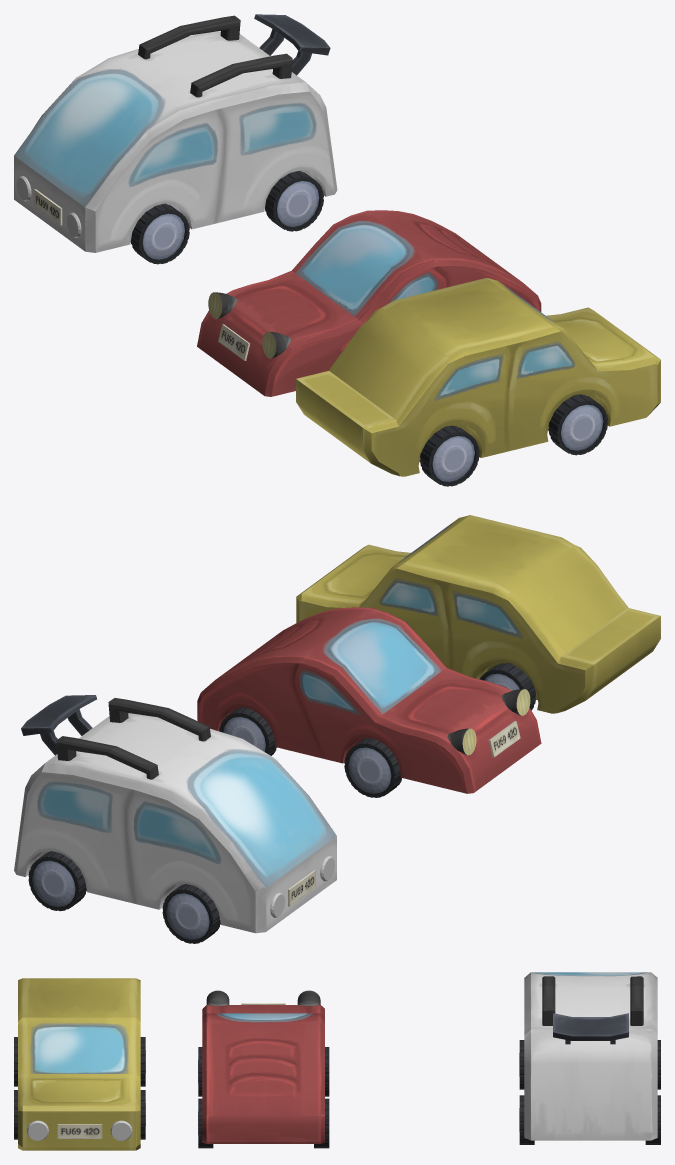
Rendered from cars.fbx.
The picture shows the model from 3 angles, top to bottom: view 1: azimuth 30°, elevation 25°; view 2: azimuth 150°, elevation 25°; view 3: azimuth 270°, elevation 25°; orthographic projection. The views are drawn at different scales.
Visible parts, largest first — view 1: Box021, Box603, Box024, Box607, Box608, Box559, Box023, Box030; view 2: Box021, Box603, Box024, Box561, Box560, Box565, Box030, Box564, Box606, Box566; view 3: Box021, Box603, Box024, Box030, Box604, Cylinder047, Cylinder046, Box559, Box564, Box563, Box023, Box605 (+1 smaller).
Boxes of the visible parts, x1=… form: Box021: x1=14, y1=15, x2=337, y2=252; Box603: x1=296, y1=278, x2=660, y2=476; Box024: x1=197, y1=210, x2=541, y2=396; Box607: x1=420, y1=425, x2=479, y2=486; Box608: x1=548, y1=394, x2=607, y2=455; Box559: x1=265, y1=171, x2=323, y2=231; Box023: x1=130, y1=203, x2=189, y2=264; Box030: x1=254, y1=14, x2=330, y2=75; Box021: x1=14, y1=698, x2=336, y2=933; Box603: x1=296, y1=515, x2=660, y2=713; Box024: x1=197, y1=607, x2=541, y2=793; Box561: x1=28, y1=851, x2=86, y2=911; Box560: x1=162, y1=884, x2=220, y2=943; Box565: x1=344, y1=737, x2=401, y2=797; Box030: x1=21, y1=695, x2=96, y2=755; Box564: x1=219, y1=707, x2=276, y2=755; Box606: x1=480, y1=663, x2=535, y2=710; Box566: x1=488, y1=721, x2=520, y2=757; Box021: x1=524, y1=972, x2=657, y2=1140; Box603: x1=18, y1=978, x2=140, y2=1150; Box024: x1=202, y1=990, x2=324, y2=1143; Box030: x1=553, y1=1013, x2=628, y2=1044; Box604: x1=57, y1=1124, x2=102, y2=1138; Cylinder047: x1=110, y1=1120, x2=132, y2=1140; Cylinder046: x1=27, y1=1120, x2=48, y2=1140; Box559: x1=519, y1=1095, x2=534, y2=1144; Box564: x1=314, y1=1098, x2=329, y2=1148; Box563: x1=198, y1=1098, x2=213, y2=1148; Box023: x1=519, y1=1040, x2=524, y2=1089; Box605: x1=140, y1=1090, x2=145, y2=1139.
Size of the model in its own units: 489 by 256 by 1080.
